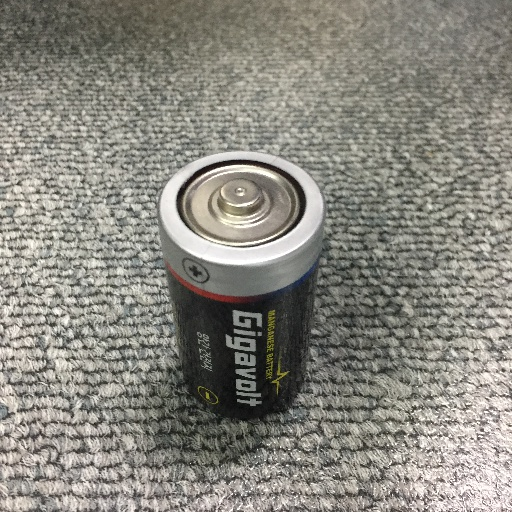Battery_0: (147, 134, 338, 434)
